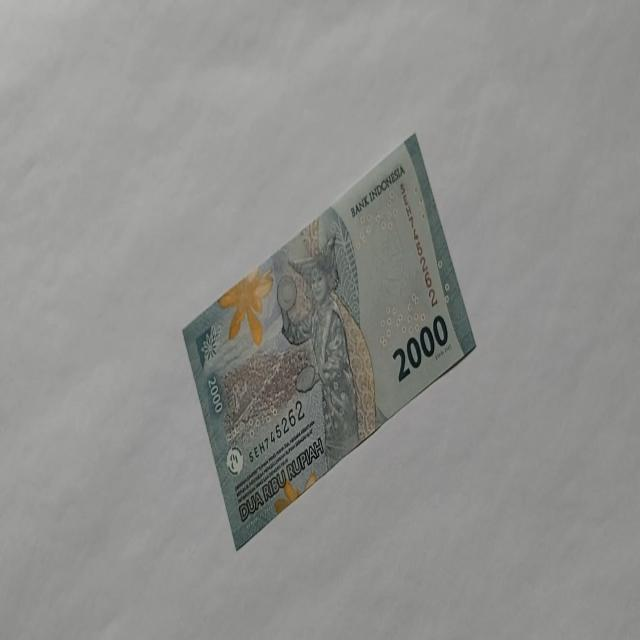dua ribu rupiah: (181, 130, 477, 550), (276, 233, 376, 471)
